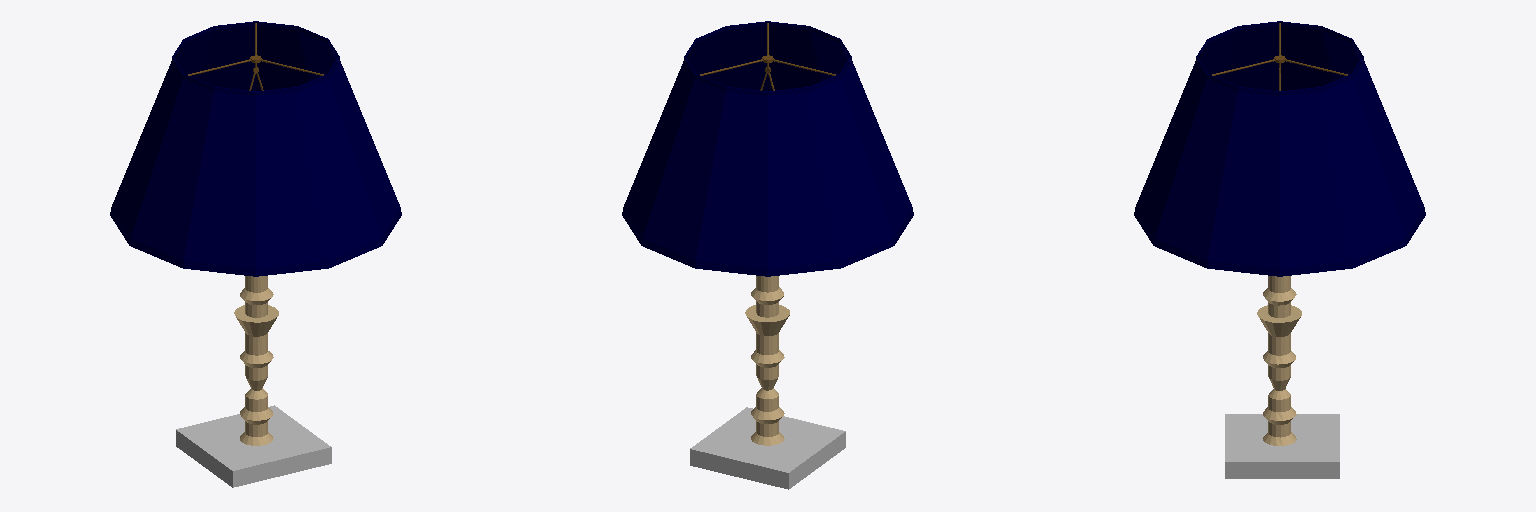
The model's file is deskLamp1.obj.
3 renders of one model, left to right at view 1: azimuth 30°, elevation 25°; view 2: azimuth 150°, elevation 25°; view 3: azimuth 270°, elevation 25°, orthographic.
Visible parts, largest first — view 1: Object01616_2_2, Object013236_4_4, Object01_1_1; view 2: Object01616_2_2, Object013236_4_4, Object01_1_1; view 3: Object01616_2_2, Object013236_4_4, Object01_1_1.
Boxes of the visible parts, x1=… form: Object01616_2_2: x1=110, y1=21, x2=401, y2=276; Object013236_4_4: x1=176, y1=405, x2=331, y2=487; Object01_1_1: x1=234, y1=276, x2=278, y2=445; Object01616_2_2: x1=622, y1=21, x2=913, y2=276; Object013236_4_4: x1=690, y1=407, x2=845, y2=489; Object01_1_1: x1=745, y1=276, x2=789, y2=445; Object01616_2_2: x1=1134, y1=21, x2=1425, y2=276; Object013236_4_4: x1=1225, y1=414, x2=1339, y2=478; Object01_1_1: x1=1257, y1=276, x2=1301, y2=445.
Bounding box in the file's own units: 40.6 × 61.24 × 40.6.